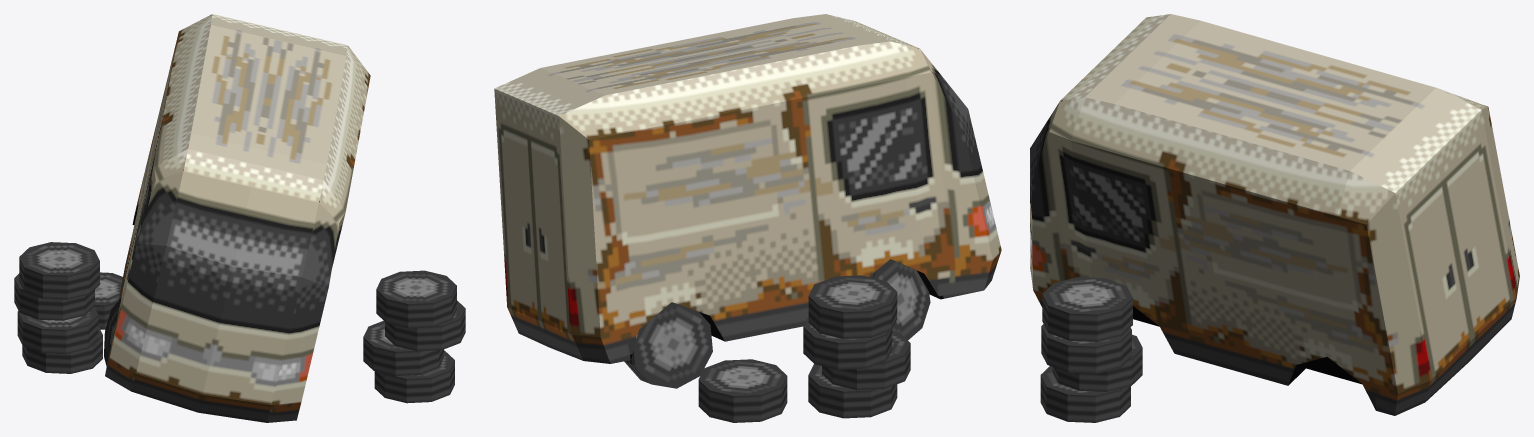
Rendered from bomberz_prefab_car4.fbx.
The picture shows the model from 3 angles, left to right: view 1: azimuth 30°, elevation 25°; view 2: azimuth 150°, elevation 25°; view 3: azimuth 270°, elevation 25°; orthographic projection. The views are drawn at different scales.
Visible parts, largest first — view 1: Car; view 2: Car; view 3: Car.
Part boxes in pixels (x1,y1,x2,y2): Car: [14, 14, 465, 422]; Car: [494, 14, 1001, 422]; Car: [1030, 14, 1519, 422].
Size of the model in its own units: 188 by 130 by 198.
1 material, 1 textured.
